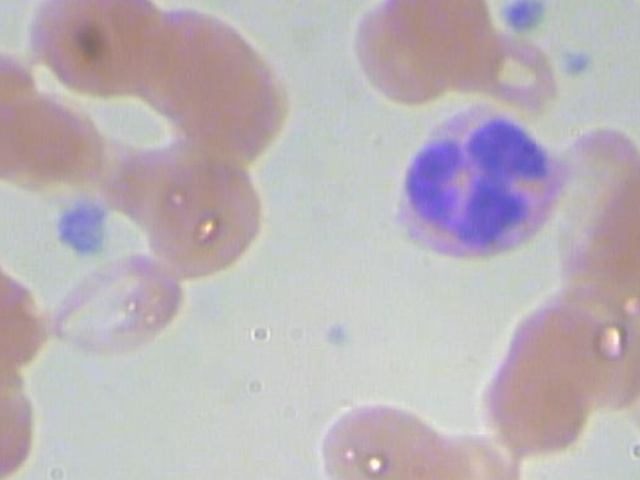Platelets: (43, 198, 114, 263), (549, 39, 603, 87), (494, 0, 550, 42)
RBC: (18, 0, 185, 110), (46, 245, 185, 377), (137, 148, 270, 281), (310, 397, 449, 480), (376, 0, 492, 70)
WBC: (367, 90, 580, 287)
